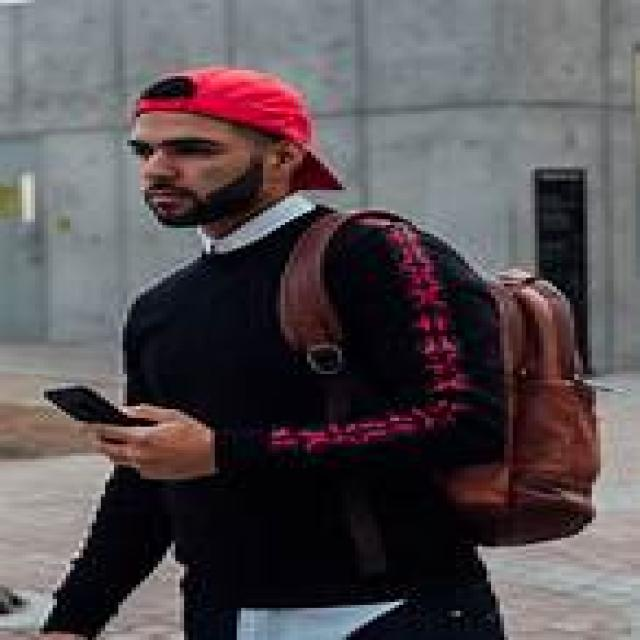backpack: (384, 215, 640, 586)
